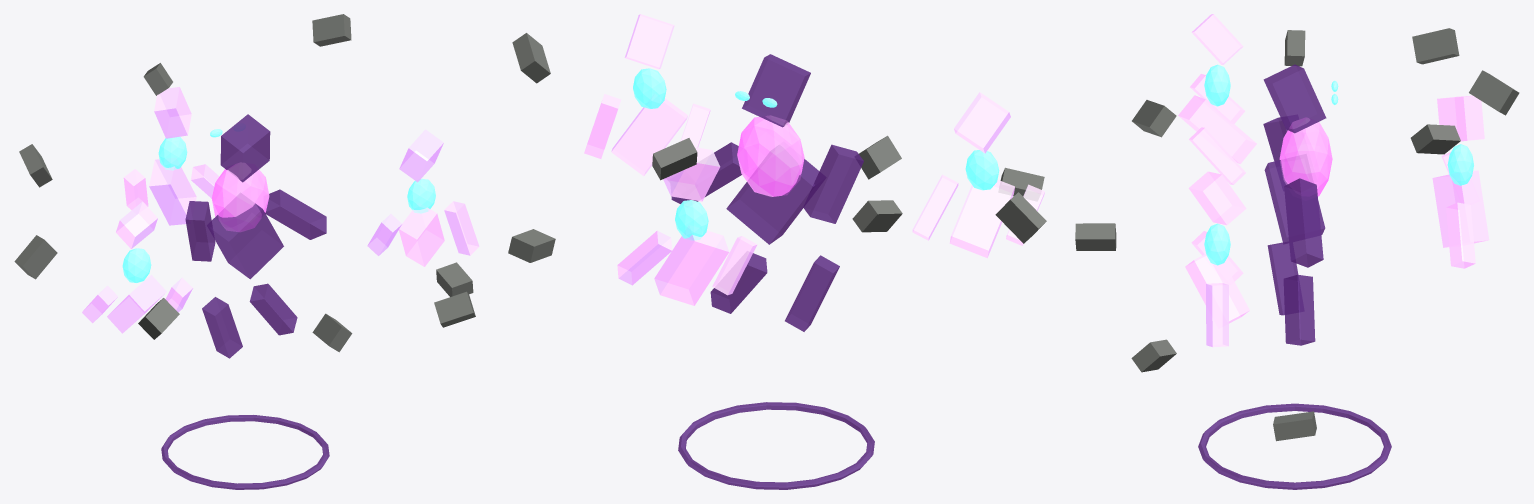
Rendered from boss_04_null_anomaly.glb.
The picture shows the model from 3 angles, left to right: view 1: azimuth 30°, elevation 25°; view 2: azimuth 150°, elevation 25°; view 3: azimuth 270°, elevation 25°; orthographic projection. The views are drawn at different scales.
Visible parts, largest first — view 1: null_anomaly_real_fragment_0, null_anomaly_real_core_magenta, null_anomaly_real_shadow_tell_ring, null_anomaly_real_fragment_1, null_anomaly_fake_echo_2_fragment_0, null_anomaly_fake_echo_0_fragment_0, null_anomaly_real_fragment_3, null_anomaly_fake_echo_1_fragment_0, null_anomaly_real_fragment_4, null_anomaly_real_fragment_2, null_anomaly_fake_echo_2_fragment_1, null_anomaly_real_fragment_5 (+19 smaller); view 2: null_anomaly_real_core_magenta, null_anomaly_real_shadow_tell_ring, null_anomaly_fake_echo_2_fragment_0, null_anomaly_real_fragment_0, null_anomaly_fake_echo_0_fragment_0, null_anomaly_real_fragment_1, null_anomaly_fake_echo_1_fragment_0, null_anomaly_real_fragment_2, null_anomaly_fake_echo_1_fragment_1, null_anomaly_real_fragment_4, null_anomaly_fake_echo_0_fragment_1, null_anomaly_fake_echo_2_fragment_1 (+17 smaller); view 3: null_anomaly_real_shadow_tell_ring, null_anomaly_real_core_magenta, null_anomaly_real_fragment_3, null_anomaly_real_fragment_1, null_anomaly_fake_echo_2_fragment_0, null_anomaly_fake_echo_1_fragment_0, null_anomaly_real_fragment_5, null_anomaly_fake_echo_0_fragment_1, null_anomaly_fake_echo_2_fragment_1, null_anomaly_fake_echo_0_fragment_0, null_anomaly_fake_echo_2_fragment_3, null_anomaly_fake_echo_0_fragment_3 (+17 smaller).
Boxes of the visible parts, bbox=[...] form: null_anomaly_real_fragment_0: bbox=[209, 193, 283, 279]; null_anomaly_real_core_magenta: bbox=[211, 162, 269, 231]; null_anomaly_real_shadow_tell_ring: bbox=[161, 415, 329, 489]; null_anomaly_real_fragment_1: bbox=[220, 114, 270, 182]; null_anomaly_fake_echo_2_fragment_0: bbox=[149, 159, 196, 225]; null_anomaly_fake_echo_0_fragment_0: bbox=[399, 207, 444, 266]; null_anomaly_real_fragment_3: bbox=[265, 189, 326, 239]; null_anomaly_fake_echo_1_fragment_0: bbox=[107, 275, 166, 333]; null_anomaly_real_fragment_4: bbox=[202, 297, 242, 358]; null_anomaly_real_fragment_2: bbox=[185, 201, 215, 261]; null_anomaly_fake_echo_2_fragment_1: bbox=[154, 87, 191, 138]; null_anomaly_real_fragment_5: bbox=[249, 283, 297, 335]; null_anomaly_real_core_magenta: bbox=[737, 115, 804, 196]; null_anomaly_real_shadow_tell_ring: bbox=[678, 402, 874, 489]; null_anomaly_fake_echo_2_fragment_0: bbox=[654, 230, 729, 305]; null_anomaly_real_fragment_0: bbox=[726, 146, 819, 244]; null_anomaly_fake_echo_0_fragment_0: bbox=[611, 98, 687, 176]; null_anomaly_real_fragment_1: bbox=[742, 54, 810, 127]; null_anomaly_fake_echo_1_fragment_0: bbox=[949, 180, 1014, 258]; null_anomaly_real_fragment_2: bbox=[803, 144, 863, 223]; null_anomaly_fake_echo_1_fragment_1: bbox=[954, 92, 1010, 153]; null_anomaly_real_fragment_4: bbox=[785, 255, 839, 331]; null_anomaly_fake_echo_0_fragment_1: bbox=[624, 14, 674, 69]; null_anomaly_fake_echo_2_fragment_1: bbox=[663, 147, 720, 201]; null_anomaly_real_shadow_tell_ring: bbox=[1198, 403, 1391, 489]; null_anomaly_real_core_magenta: bbox=[1279, 117, 1332, 196]; null_anomaly_real_fragment_3: bbox=[1284, 178, 1323, 267]; null_anomaly_real_fragment_1: bbox=[1263, 64, 1326, 133]; null_anomaly_fake_echo_2_fragment_0: bbox=[1432, 170, 1489, 247]; null_anomaly_fake_echo_1_fragment_0: bbox=[1178, 95, 1256, 163]; null_anomaly_real_fragment_5: bbox=[1283, 274, 1315, 345]; null_anomaly_fake_echo_0_fragment_1: bbox=[1188, 171, 1246, 225]; null_anomaly_fake_echo_2_fragment_1: bbox=[1437, 95, 1484, 141]; null_anomaly_fake_echo_0_fragment_0: bbox=[1185, 254, 1249, 323]; null_anomaly_fake_echo_2_fragment_3: bbox=[1446, 202, 1475, 268]; null_anomaly_fake_echo_0_fragment_3: bbox=[1206, 283, 1228, 347].
Bounding box in the file's own units: 2.68 × 2.06 × 2.01.
